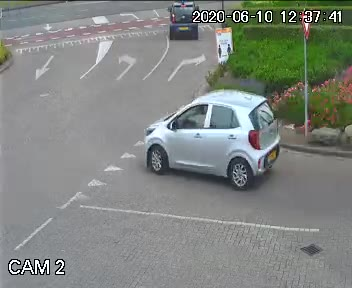car: (132, 82, 288, 195), (164, 1, 198, 47)
